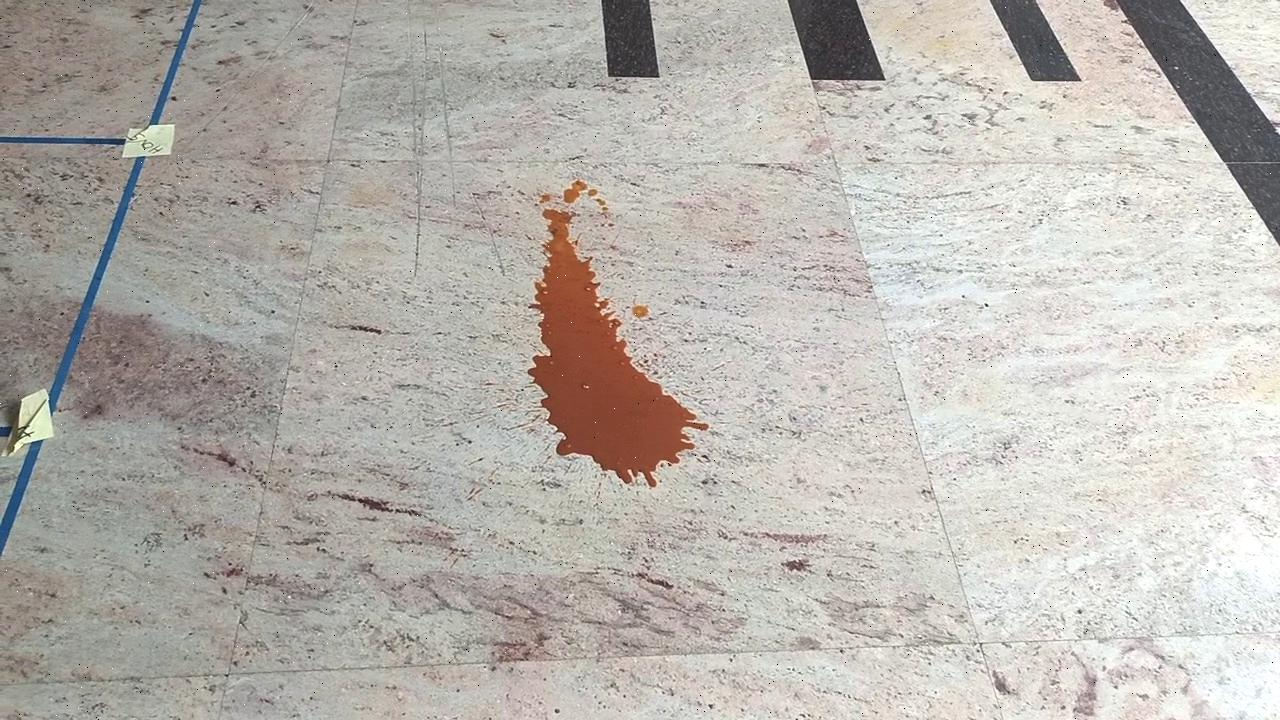dirty_floor: (534, 179, 711, 489)
